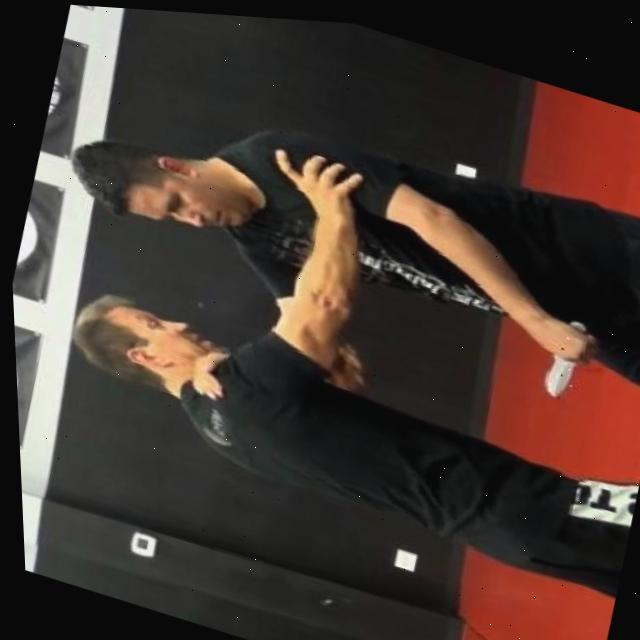knife: (536, 306, 586, 395)
